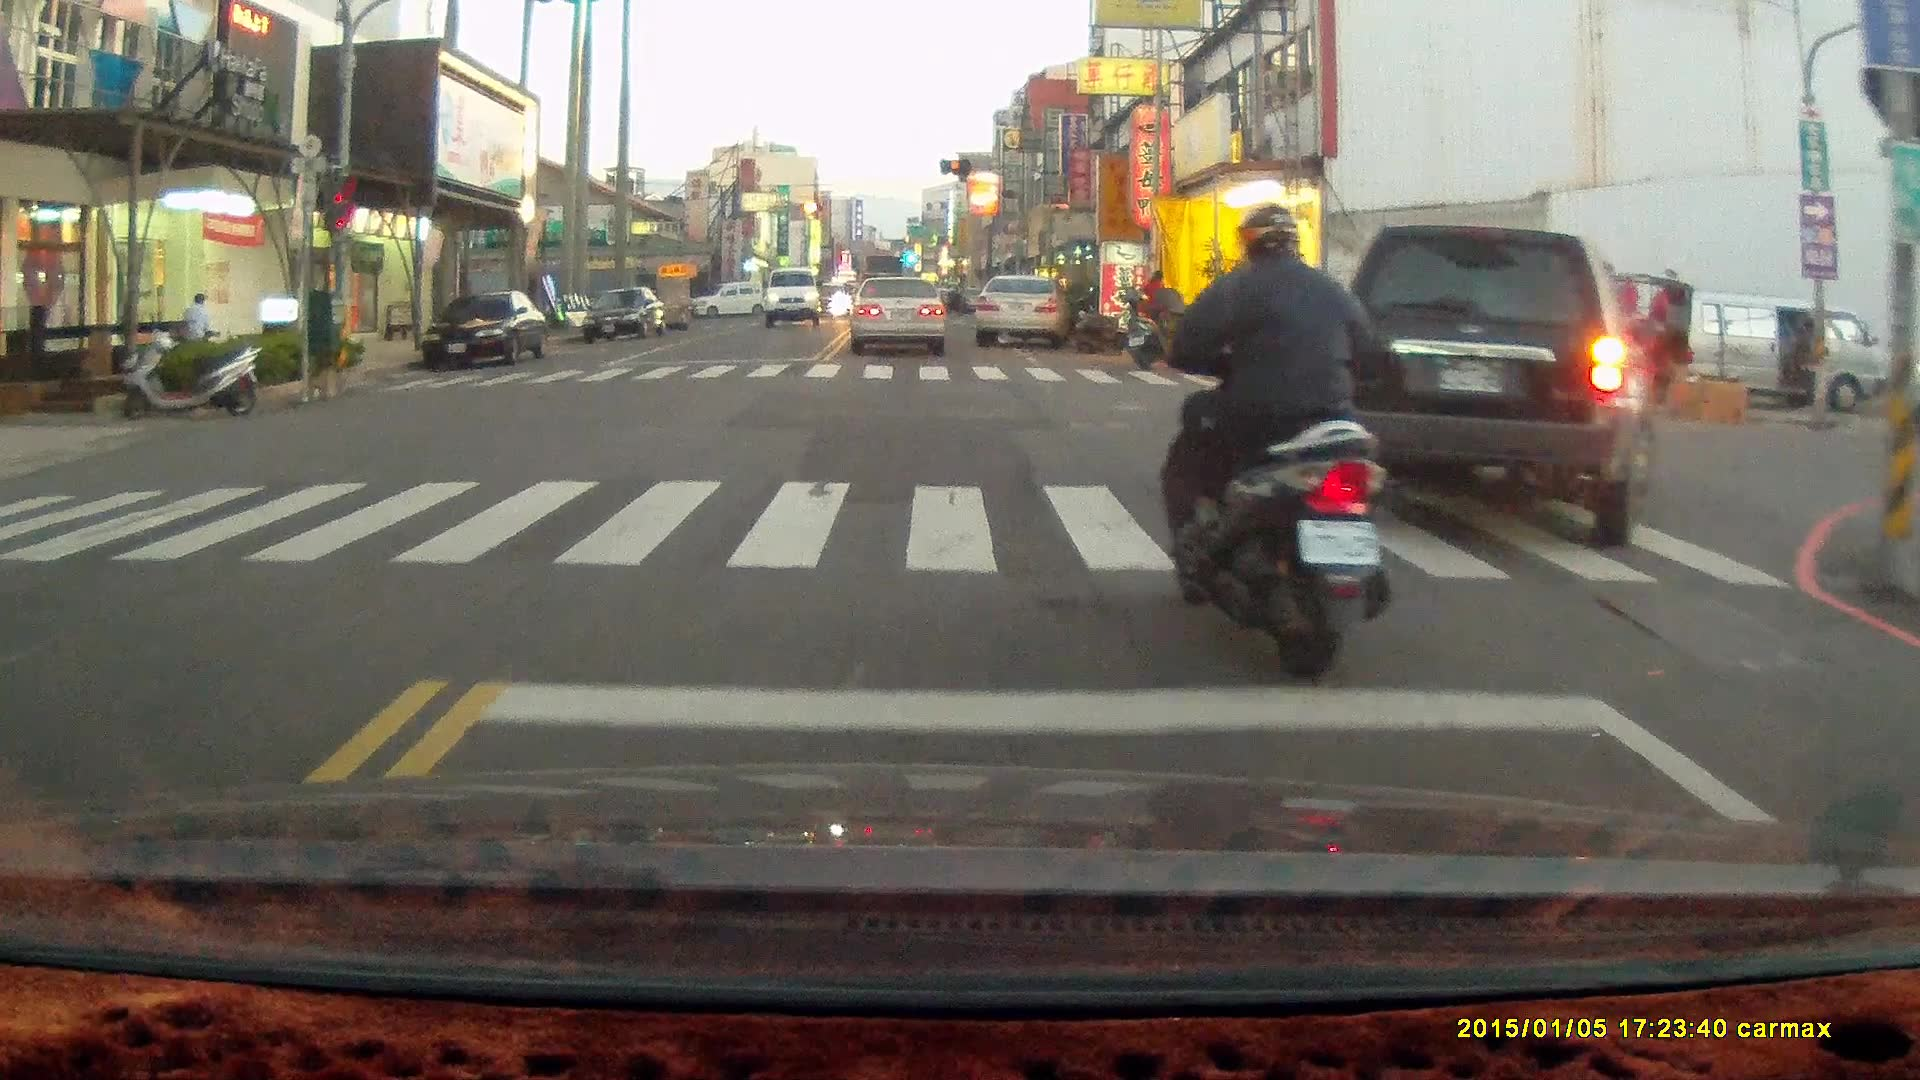pedestrian: (1137, 269, 1169, 358), (179, 291, 216, 357), (1794, 315, 1819, 406)
rider: (1159, 206, 1399, 694)
vehicle: (1328, 223, 1661, 541), (1628, 286, 1894, 416), (421, 288, 550, 370), (850, 276, 951, 355), (974, 264, 1073, 343), (583, 286, 669, 344), (765, 267, 825, 329)
